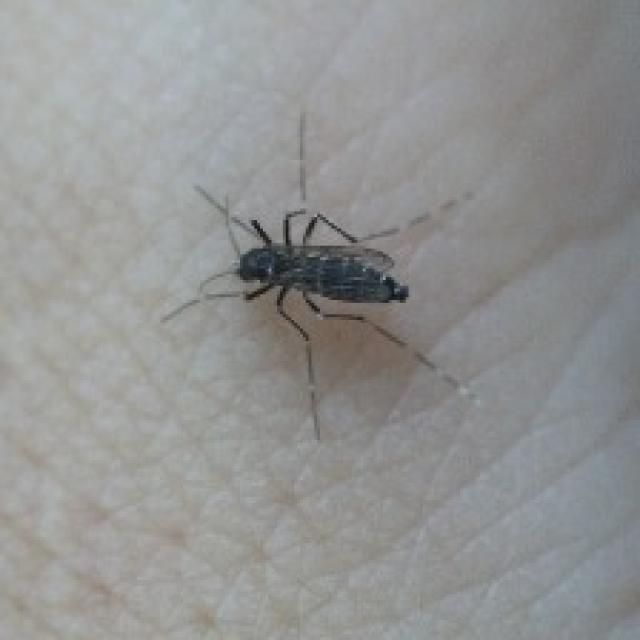aedes: (129, 122, 584, 494)
